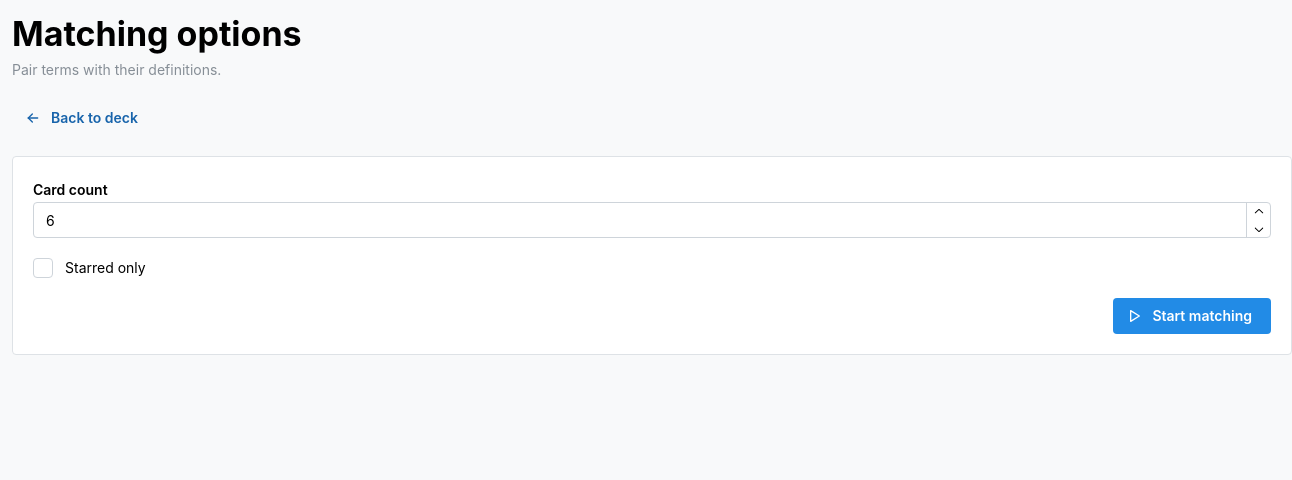
Test: matching mode › shows an error alert when starting a matching session fails
The width and height of the screenshot is (1292, 480).
Click the button "Start matching".
click(1192, 316)  # box [1113, 298, 1271, 334]
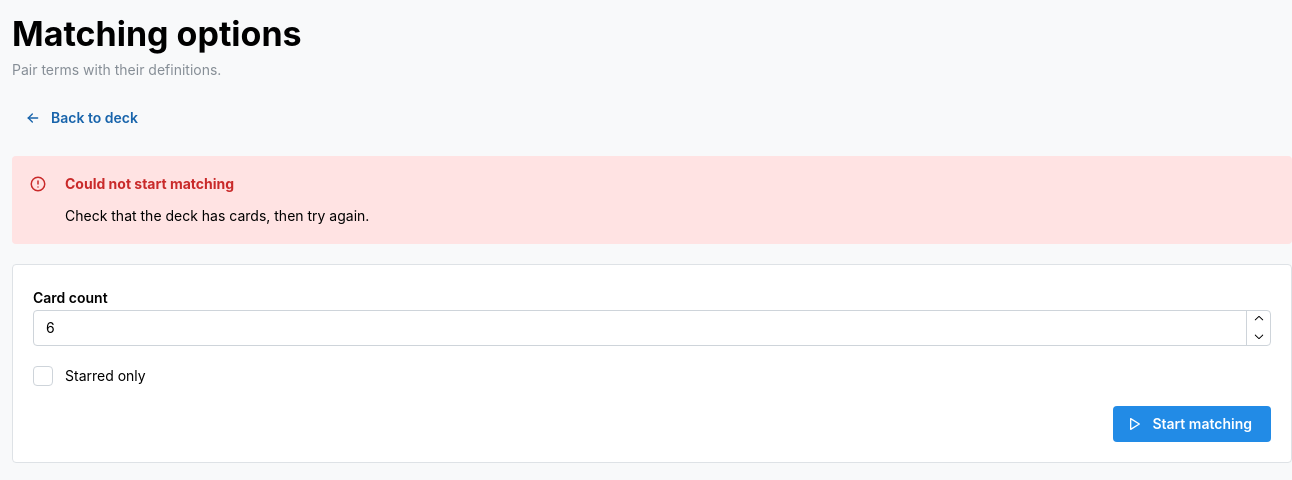
Expected: the text "Could not start matching" is shown, [65, 174, 234, 195]
Expected: the text "Check that the deck has cards, then try again." is shown, [65, 207, 369, 224]
